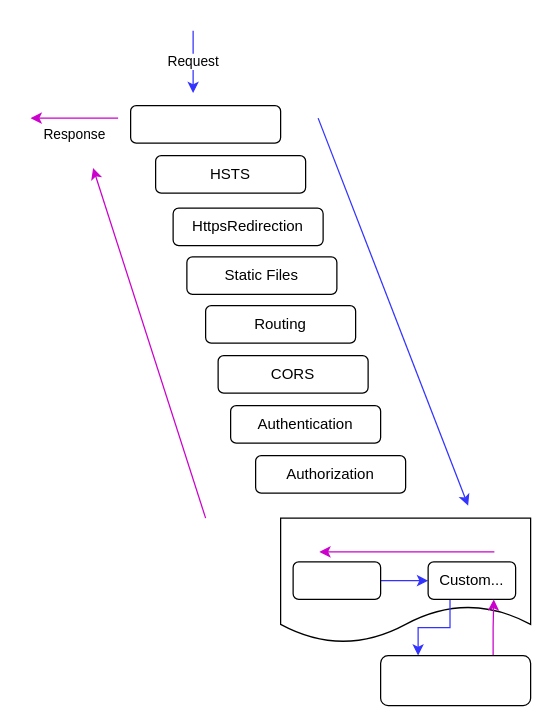
Image size: 553x728. Some labels were removed from this diagram. The shapes that lost their labels are listed below. From the top down, each one's box as (x1, y1, x2, y2) in pixels, then its label:
(129, 104, 281, 143): ExceptionHandler
(292, 561, 381, 599): Custom1
(279, 517, 531, 643): Custom middlewares
(379, 654, 531, 706): Endpoint Configuration
